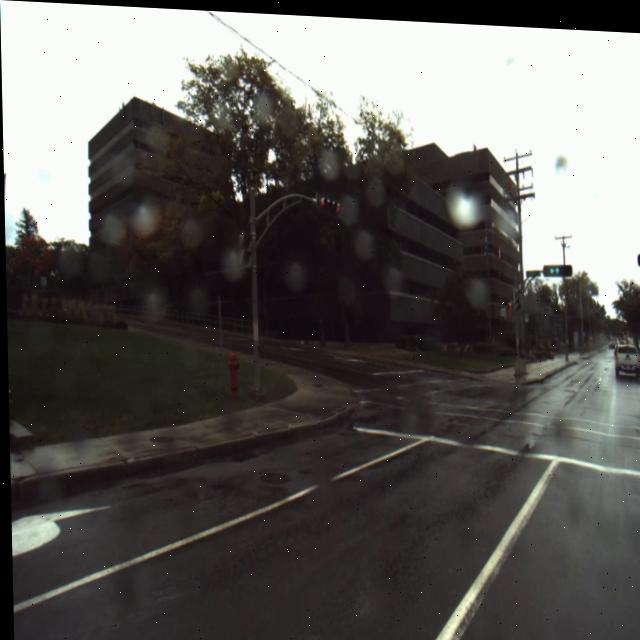car: (613, 336, 640, 375), (316, 192, 343, 216)
trafficLight: (513, 281, 519, 307)
trafficLight-Green: (543, 259, 561, 273), (639, 246, 640, 258)
trafficLight-Red: (505, 295, 513, 312)
